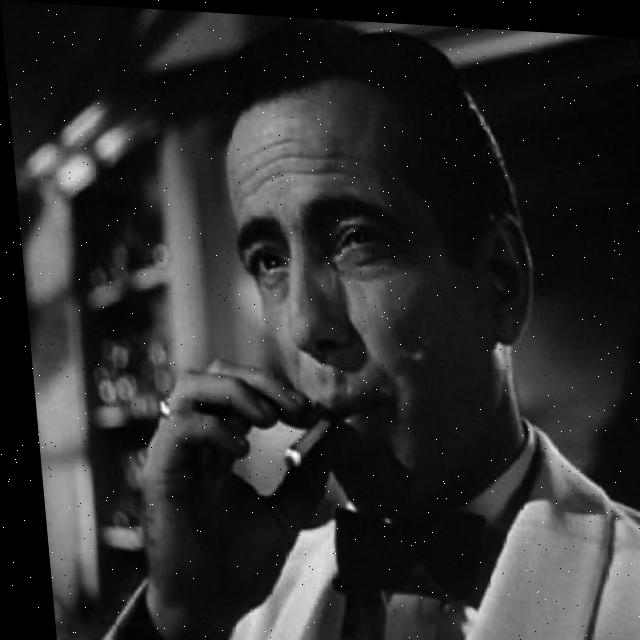cigarette: (274, 410, 330, 465)
